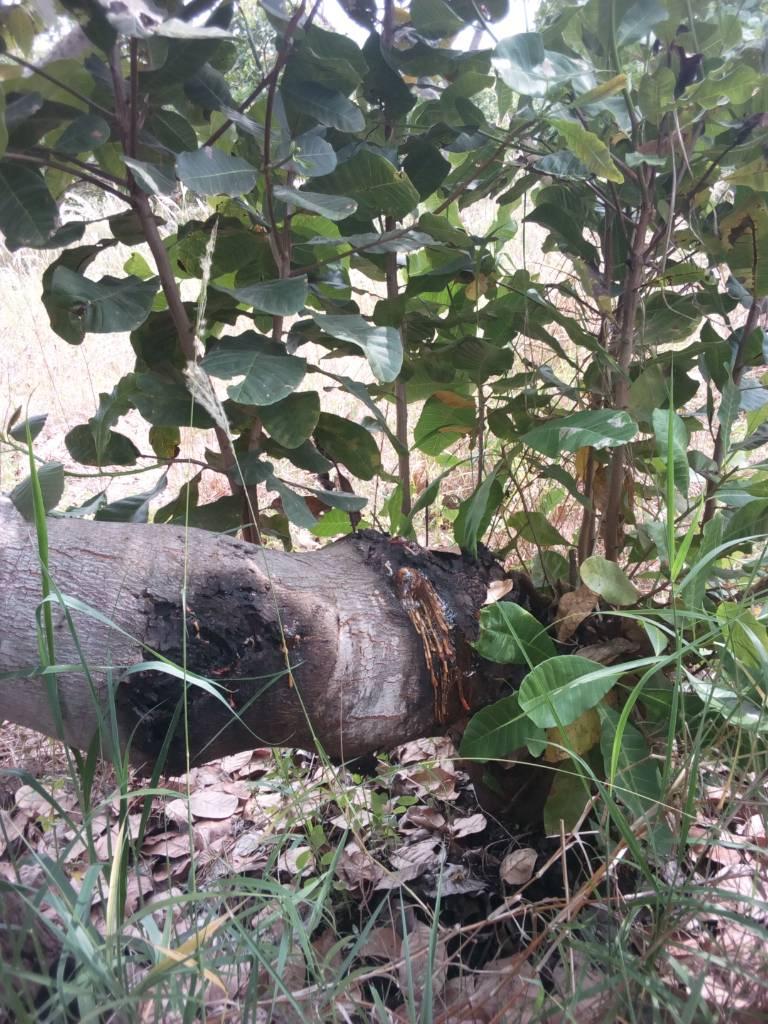Gommose: (127, 578, 313, 771), (369, 530, 496, 711)
